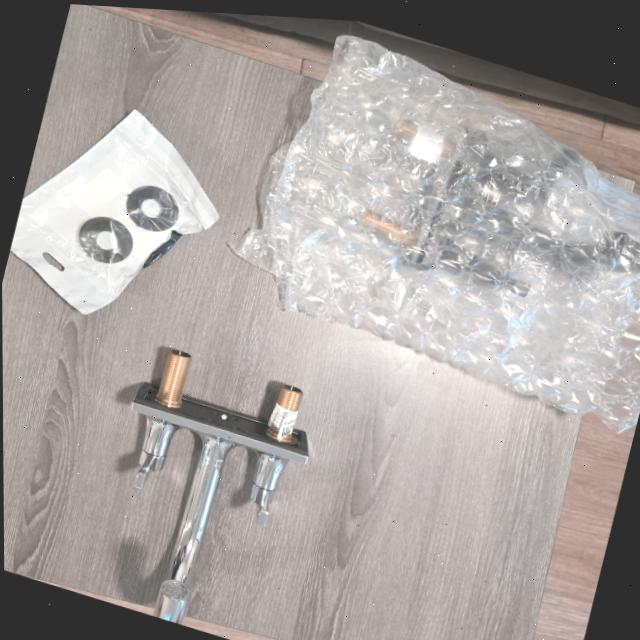10: (132, 350, 308, 624)
13: (10, 110, 218, 313)
9c: (231, 36, 640, 432)
